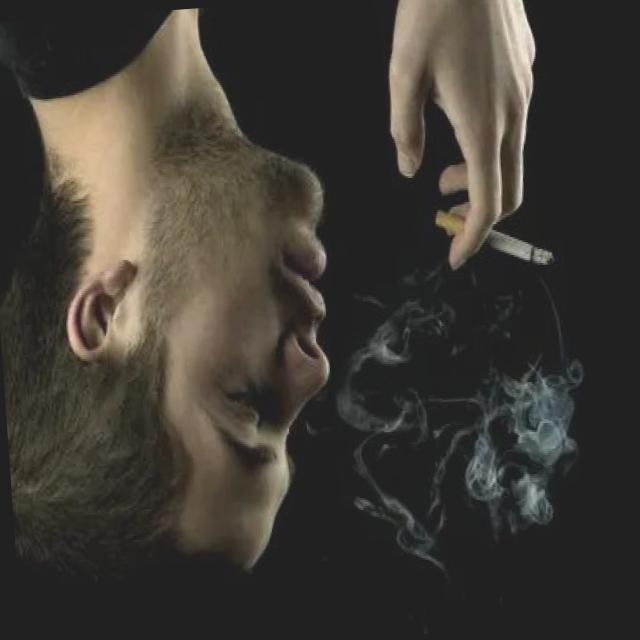cigarette: (430, 198, 558, 278)
